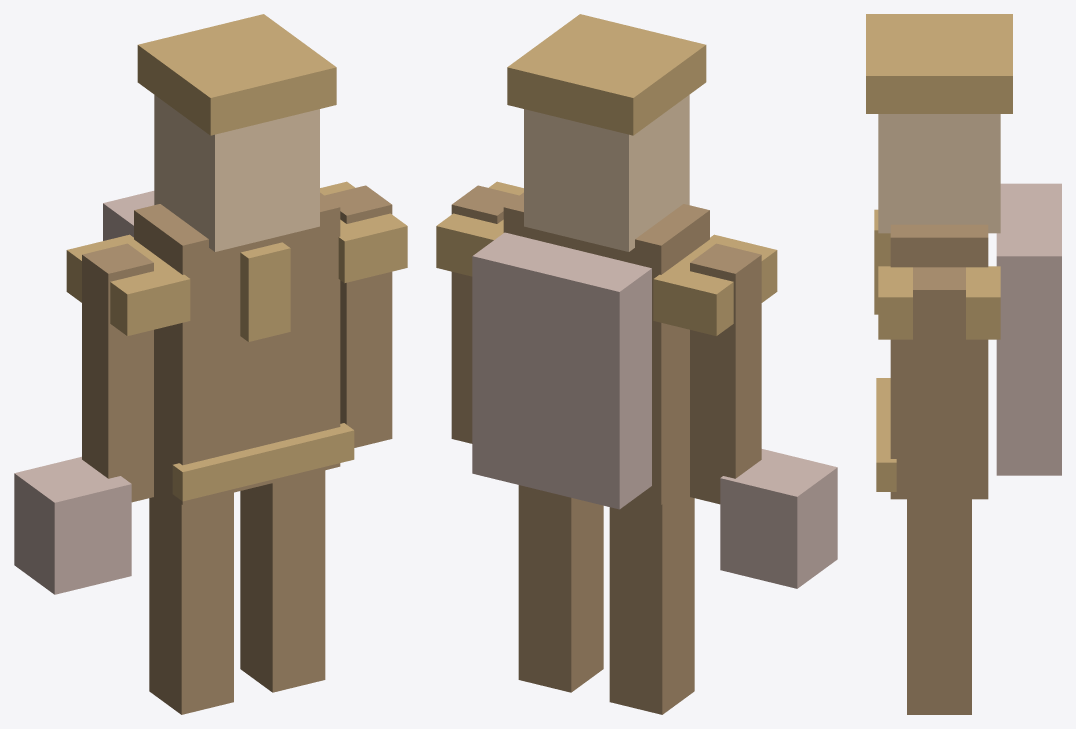
The model's file is 11_kael_voxmere_smith_at_couplet.glb.
3 renders of one model, left to right at view 1: azimuth 30°, elevation 25°; view 2: azimuth 150°, elevation 25°; view 3: azimuth 270°, elevation 25°, orthographic.
Parts seen in each view (by area): view 1: Kael Voxmere, Smith at Couplet; view 2: Kael Voxmere, Smith at Couplet; view 3: Kael Voxmere, Smith at Couplet.
Boxes of the visible parts, x1,y1,x2,y2 form: Kael Voxmere, Smith at Couplet: (14,14,407,714); Kael Voxmere, Smith at Couplet: (436,14,837,714); Kael Voxmere, Smith at Couplet: (866,14,1061,714).
Bounding box in the file's own units: 0.9786 × 1.69 × 0.4721.
